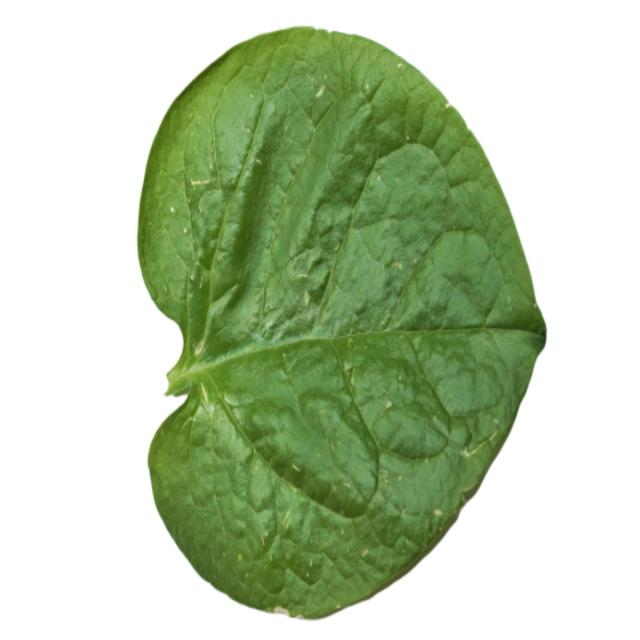Medicinal-Basale: (136, 23, 548, 619)
